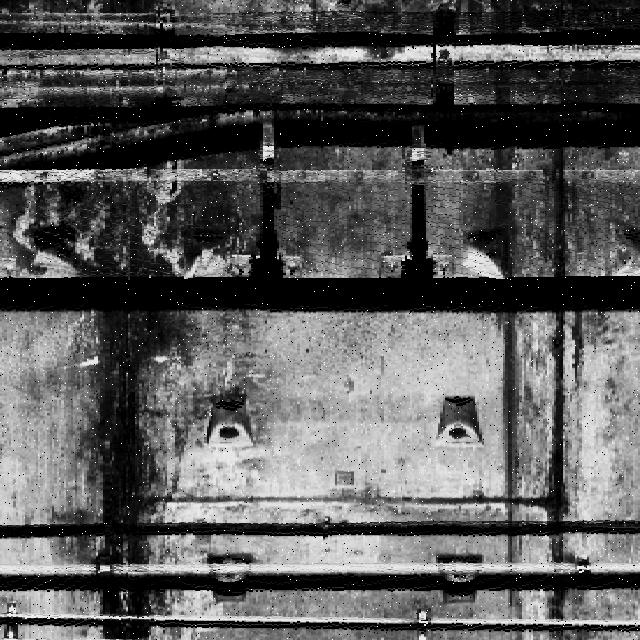leakage: (25, 125, 205, 640), (539, 148, 594, 640), (490, 68, 530, 640)
